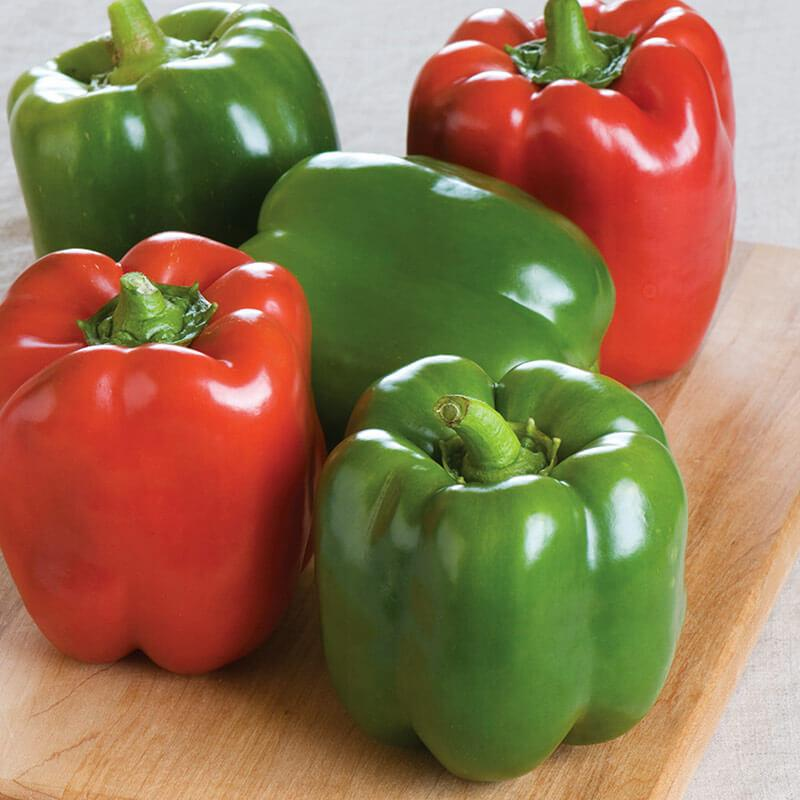bell pepper: (2, 0, 736, 782), (313, 352, 688, 783), (0, 229, 326, 675), (405, 0, 737, 386), (236, 149, 616, 447), (5, 0, 340, 262)
